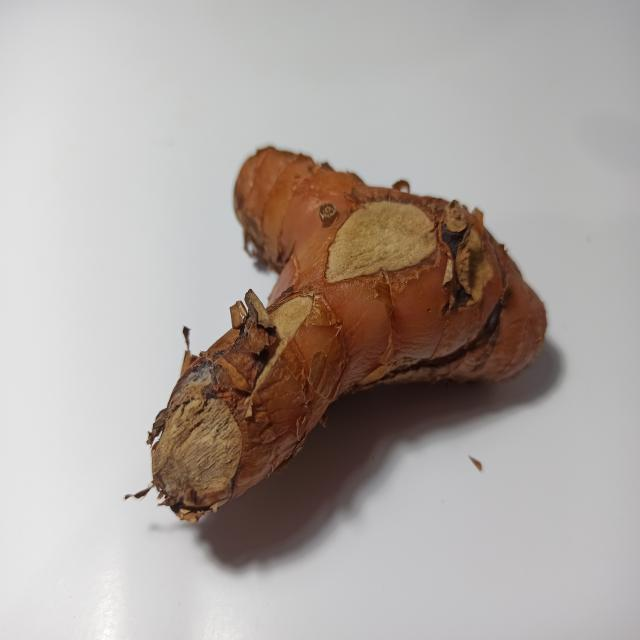ginger: (157, 132, 538, 482)
